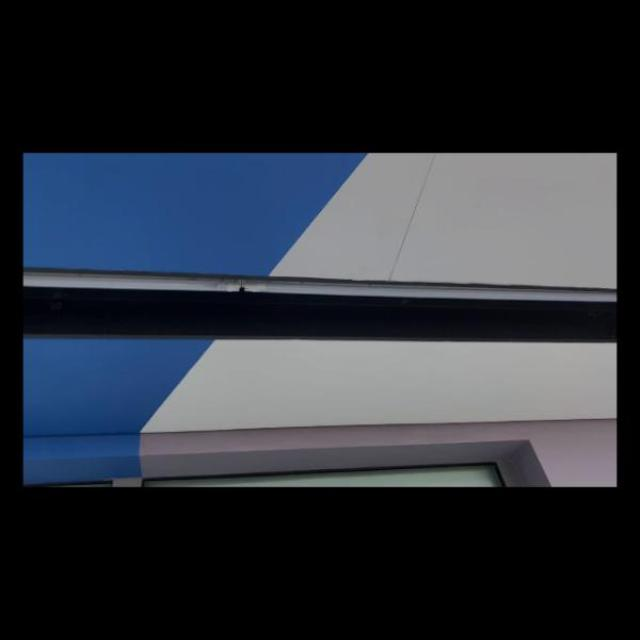Straight-Tube-Fluorescent-Lamp: (28, 227, 616, 327)
